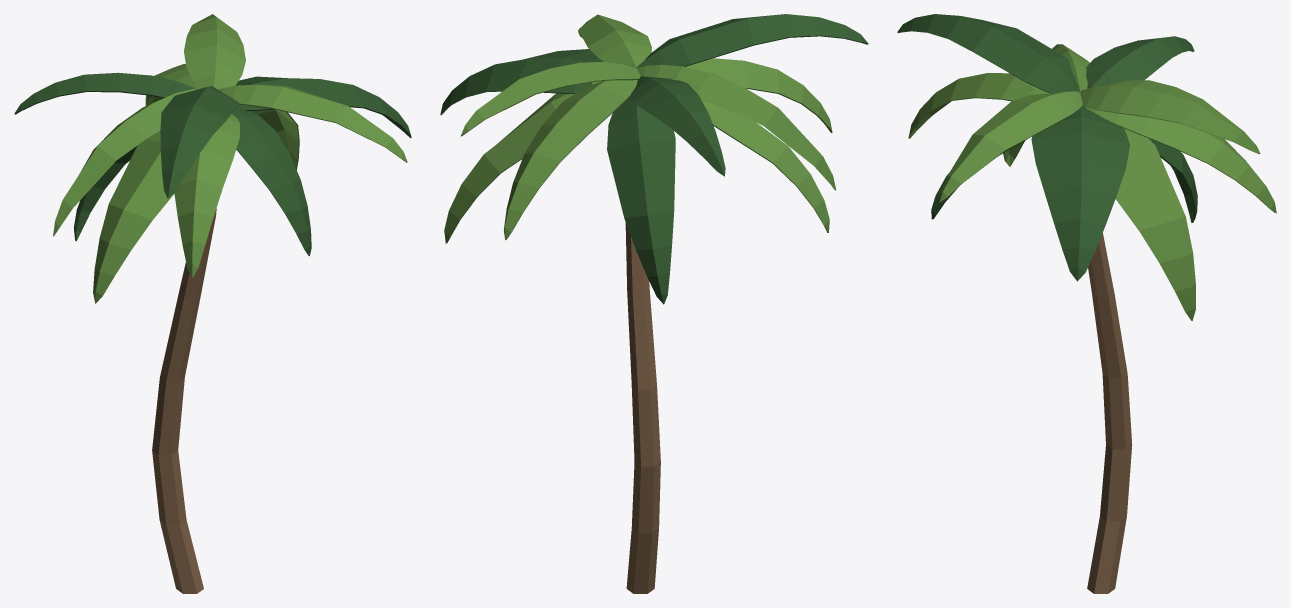
Rendered from palm_palmtree_3.glb.
3 renders of one model, left to right at view 1: azimuth 30°, elevation 25°; view 2: azimuth 150°, elevation 25°; view 3: azimuth 270°, elevation 25°, orthographic.
Parts seen in each view (by area): view 1: PalmTree_3_Cylinder.037; view 2: PalmTree_3_Cylinder.037; view 3: PalmTree_3_Cylinder.037.
Part boxes in pixels (x1,y1,x2,y2): PalmTree_3_Cylinder.037: [14, 14, 411, 593]; PalmTree_3_Cylinder.037: [440, 14, 868, 593]; PalmTree_3_Cylinder.037: [897, 14, 1276, 593].
Size of the model in its own units: 6.59 by 9 by 5.76.
